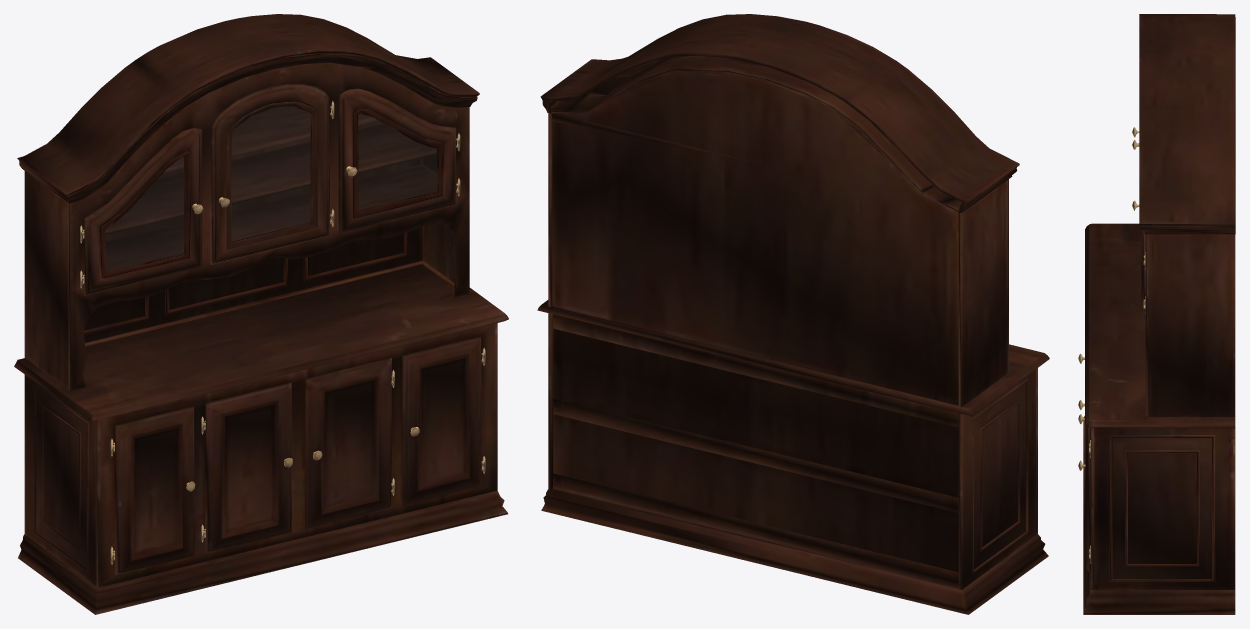
File: china_cabinet.glb
The picture shows the model from 3 angles, left to right: view 1: azimuth 30°, elevation 25°; view 2: azimuth 150°, elevation 25°; view 3: azimuth 270°, elevation 25°; orthographic projection. The views are drawn at different scales.
Visible parts, largest first — view 1: vintage_cabinet_01_body, vintage_cabinet_01_door_03, vintage_cabinet_01_door_01, vintage_cabinet_01_door_04, vintage_cabinet_01_door_06, vintage_cabinet_01_door_07, vintage_cabinet_01_door_02, vintage_cabinet_01_door_05; view 2: vintage_cabinet_01_body; view 3: vintage_cabinet_01_body, vintage_cabinet_01_door_02, vintage_cabinet_01_door_04.
Boxes of the visible parts, x1=… form: vintage_cabinet_01_body: x1=14, y1=14, x2=508, y2=614; vintage_cabinet_01_door_03: x1=210, y1=84, x2=332, y2=264; vintage_cabinet_01_door_01: x1=82, y1=127, x2=203, y2=295; vintage_cabinet_01_door_04: x1=338, y1=88, x2=458, y2=233; vintage_cabinet_01_door_06: x1=204, y1=382, x2=292, y2=553; vintage_cabinet_01_door_07: x1=305, y1=357, x2=392, y2=529; vintage_cabinet_01_door_02: x1=402, y1=336, x2=483, y2=505; vintage_cabinet_01_door_05: x1=113, y1=406, x2=195, y2=575; vintage_cabinet_01_body: x1=537, y1=14, x2=1049, y2=614; vintage_cabinet_01_body: x1=1083, y1=14, x2=1235, y2=614; vintage_cabinet_01_door_02: x1=1078, y1=426, x2=1090, y2=572; vintage_cabinet_01_door_04: x1=1132, y1=200, x2=1145, y2=319.
Bounding box in the file's own units: 2.02 × 2.23 × 0.6698.
Materials: 3 (2 with a texture image).
